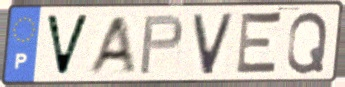A: (84, 14, 138, 77)
E: (233, 9, 285, 78)
P: (137, 13, 186, 77)
Q: (284, 10, 330, 76)
V: (43, 13, 93, 79), (190, 10, 237, 77)
